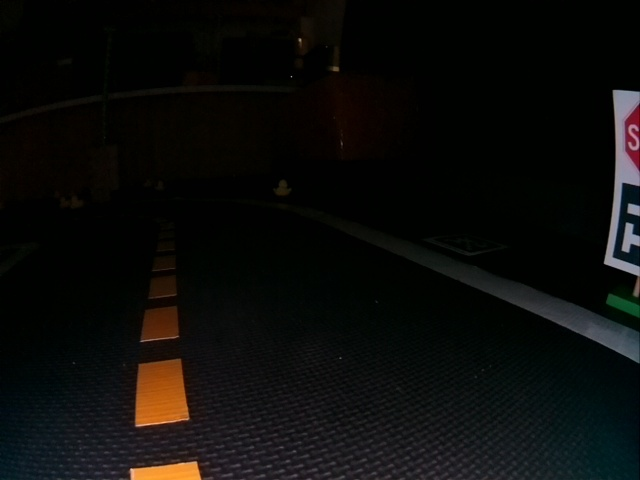Duckie: (275, 179, 289, 195), (71, 198, 81, 208), (60, 198, 69, 207)
QR code: (606, 182, 639, 265), (426, 233, 508, 256)
Stop sign: (613, 89, 639, 173)
